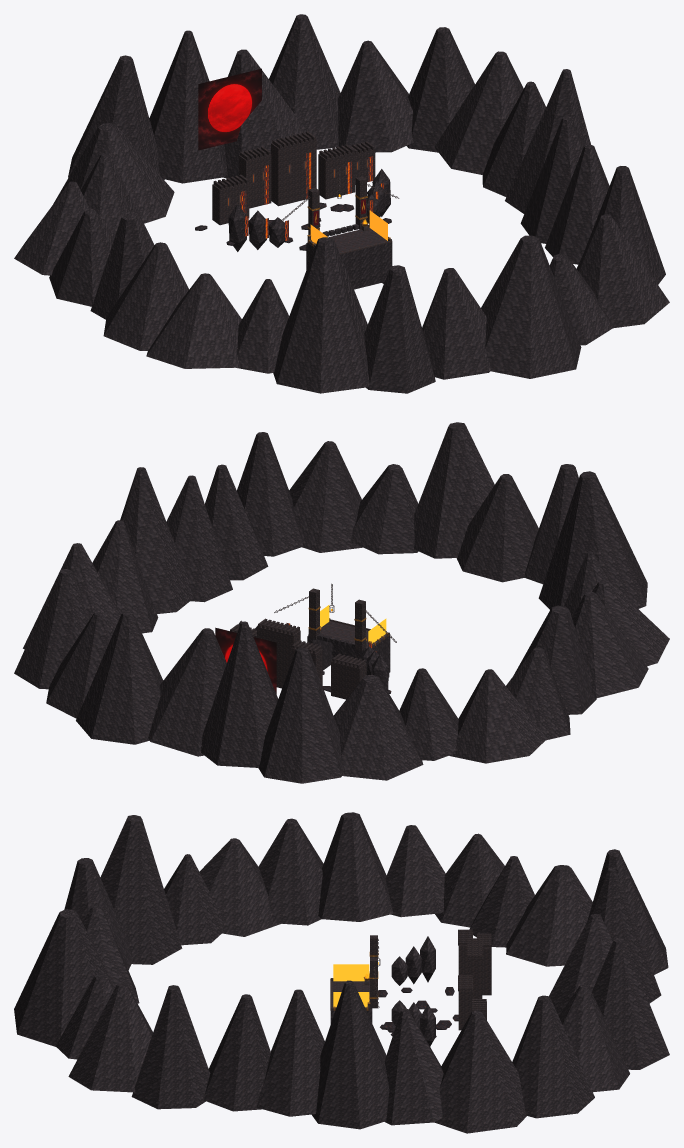
Rendered from stage.glb.
3 renders of one model, top to bottom at view 1: azimuth 30°, elevation 25°; view 2: azimuth 150°, elevation 25°; view 3: azimuth 270°, elevation 25°, orthographic. The views are drawn at different scales.
Parts seen in each view (by area): view 1: Stage_parede_basalto, Stage_tijolos_escuros, Stage_glow_sol, Stage_glow_lava_vertical, Stage_piso_basalto; view 2: Stage_parede_basalto, Stage_tijolos_escuros, Stage_glow_sol, Stage_piso_basalto; view 3: Stage_parede_basalto, Stage_tijolos_escuros, Stage_crosta_vulcanica, Barrier_L.
Part boxes in pixels (left/top/right/bottom): Stage_parede_basalto: left=14, top=14, right=669, bottom=393; Stage_tijolos_escuros: left=212, top=131, right=375, bottom=234; Stage_glow_sol: left=198, top=68, right=261, bottom=150; Stage_glow_lava_vertical: left=241, top=152, right=384, bottom=240; Stage_piso_basalto: left=310, top=227, right=387, bottom=252; Stage_parede_basalto: left=14, top=422, right=669, bottom=783; Stage_tijolos_escuros: left=230, top=588, right=366, bottom=699; Stage_glow_sol: left=215, top=627, right=276, bottom=693; Stage_piso_basalto: left=321, top=621, right=385, bottom=648; Stage_parede_basalto: left=14, top=812, right=669, bottom=1133; Stage_tijolos_escuros: left=370, top=929, right=491, bottom=1030; Stage_crosta_vulcanica: left=378, top=987, right=458, bottom=1037; Barrier_L: left=333, top=964, right=369, bottom=981.
Size of what is drawn, in the model's own units: 127 by 36.58 by 139.
12 materials, 10 textured.
